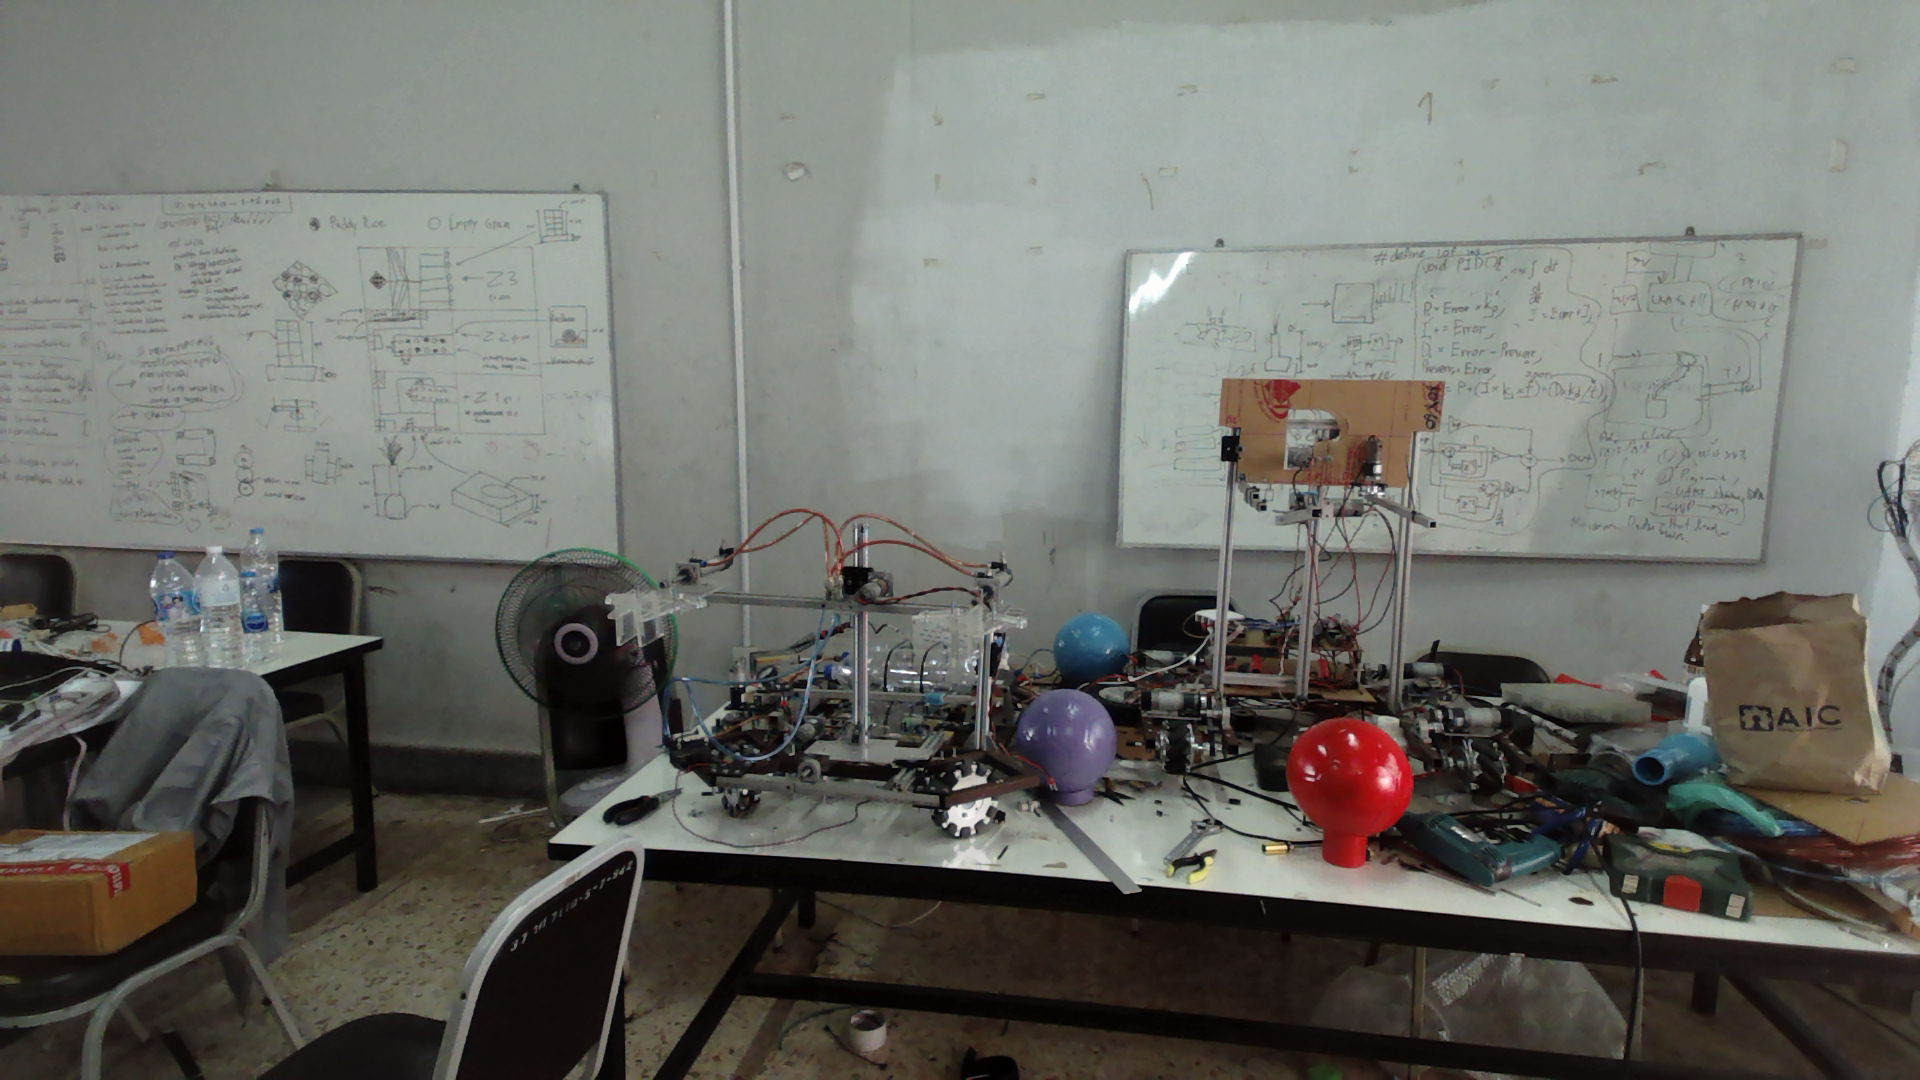Blue ball: (1052, 611, 1133, 676)
Purple ball: (1014, 687, 1120, 795)
Red ball: (1283, 716, 1416, 839)
